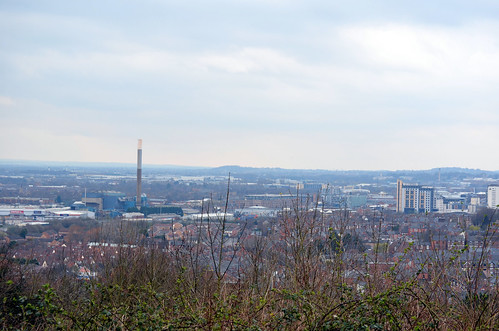building: (396, 181, 438, 212)
sky: (1, 1, 494, 171)
vegetation: (30, 243, 499, 331)
